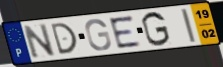D: (49, 21, 79, 56)
E: (107, 14, 144, 50)
G: (140, 10, 172, 47), (84, 18, 113, 52)
I: (179, 7, 198, 44)
N: (21, 22, 57, 60)
